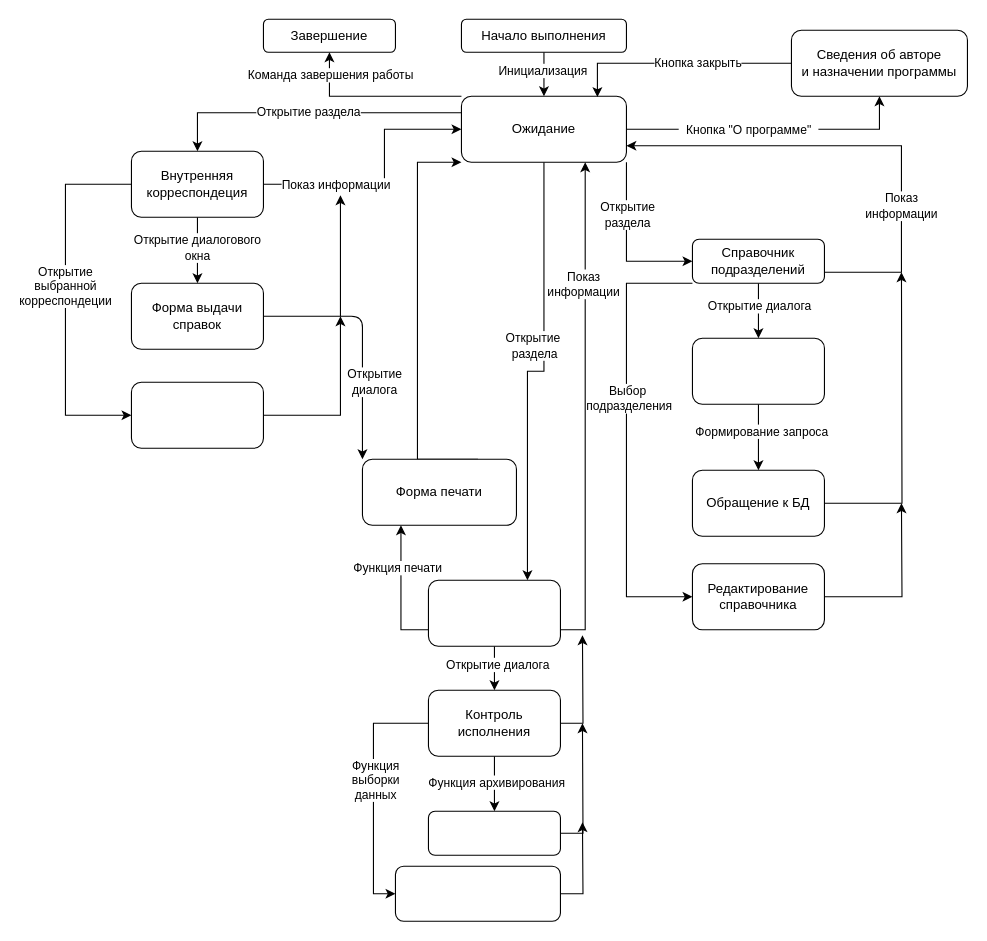
The diagram is 987 pixels wide and 941 high, and some of its shapes have lost their labels. Each missing label, with the box of its shape:
Выборка отделов по дисциплинированности: (394, 865, 560, 921)
Отправка в архив: (427, 810, 560, 855)
Приказы и распоряжения: (427, 579, 560, 646)
Форма поиска: (691, 337, 824, 404)
Форма работы с корреспондецией: (130, 381, 263, 448)
